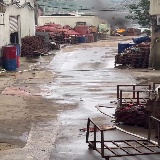fire: (116, 29, 125, 32)
